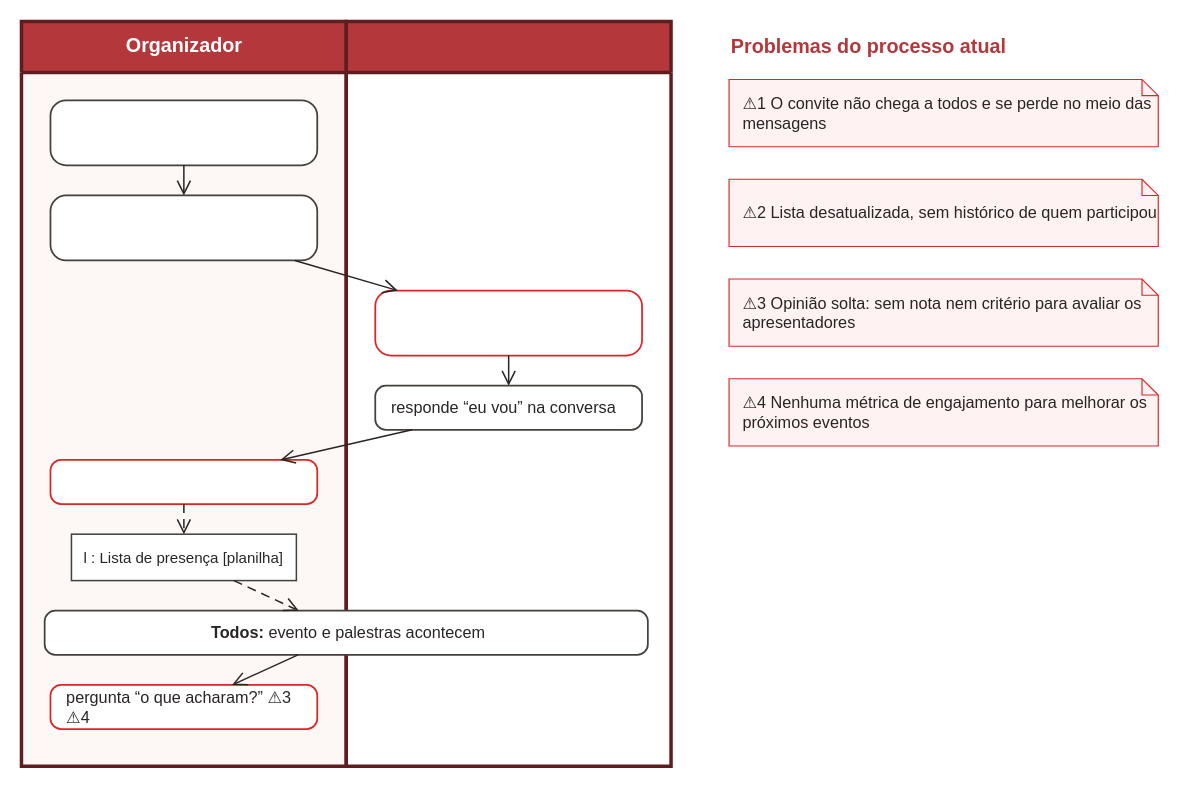
Some shapes in this 1179 by 788 pixel diagram are drawn without their labels. The shapes that lost their labels are listed below. From the top down, each one's box as (x1, y1, x2, y2) in pixels, then its label:
(49, 99, 318, 166): cria o convite (texto ou imagem)
(49, 194, 318, 261): divulga em grupos de mensagem e pessoa a pessoa
(374, 289, 642, 356): recebe o convite (se estiver no grupo) ⚠1
(344, 19, 672, 767): Participante
(49, 459, 318, 504): anota quem vai numa planilha ⚠2
